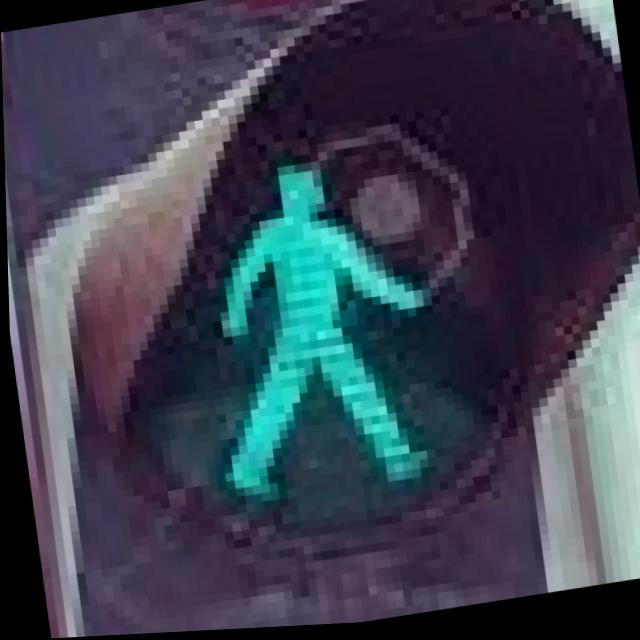green_light: (163, 111, 487, 521)
